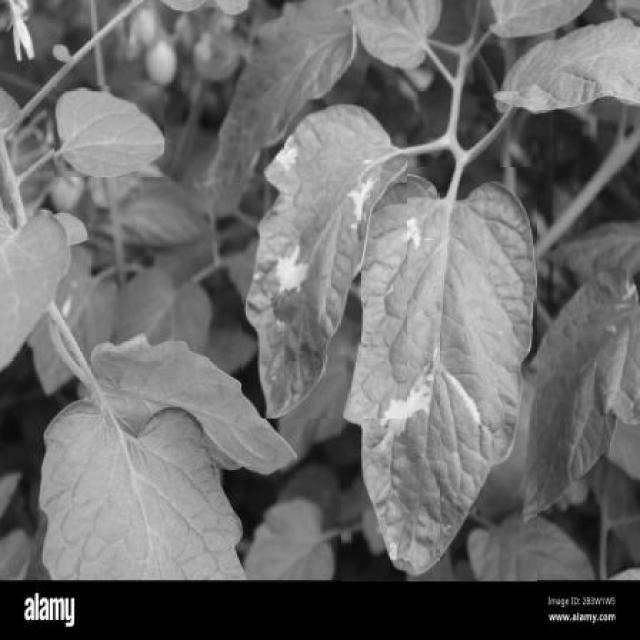Healthy: (54, 86, 164, 177)
Leaf Miner: (341, 167, 538, 582), (242, 100, 408, 420)
